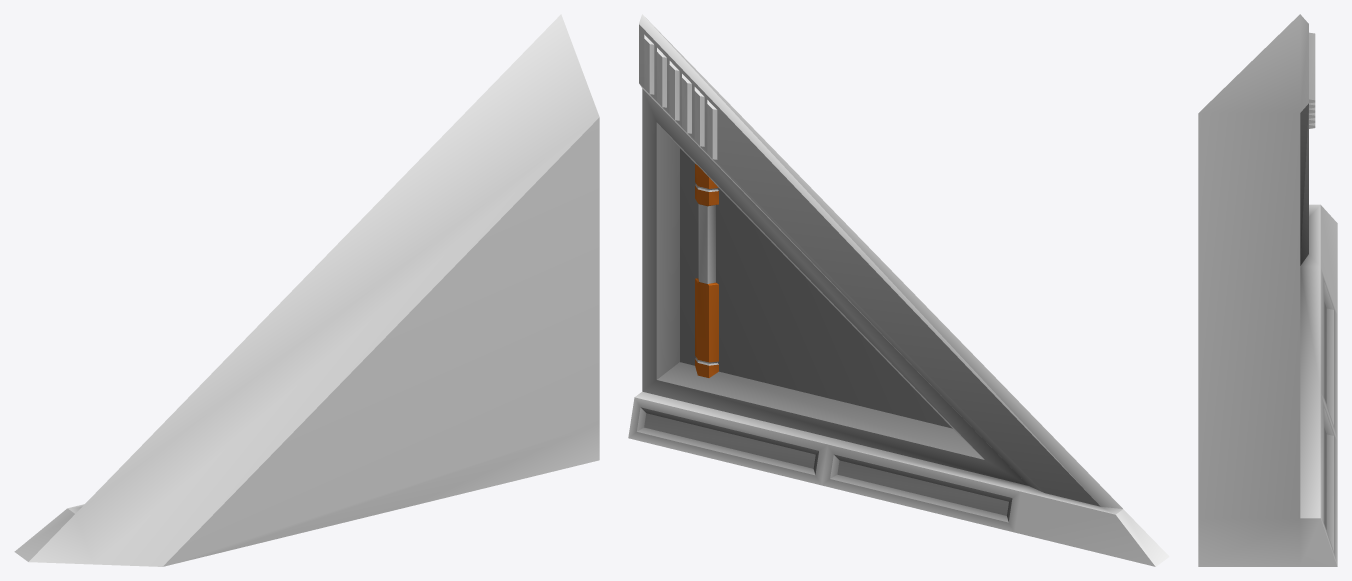
The model's file is wallRamp_L.FBX.
The picture shows the model from 3 angles, left to right: view 1: azimuth 30°, elevation 25°; view 2: azimuth 150°, elevation 25°; view 3: azimuth 270°, elevation 25°; orthographic projection. The views are drawn at different scales.
Parts seen in each view (by area): view 1: wallRamp_L; view 2: wallRamp_L; view 3: wallRamp_L.
Part boxes in pixels (box(x1,y1,x2,y2)): wallRamp_L: box(14, 14, 599, 566); wallRamp_L: box(628, 14, 1169, 566); wallRamp_L: box(1198, 14, 1337, 566).
Bounding box in the file's own units: 2 × 1.5 × 0.3418.
